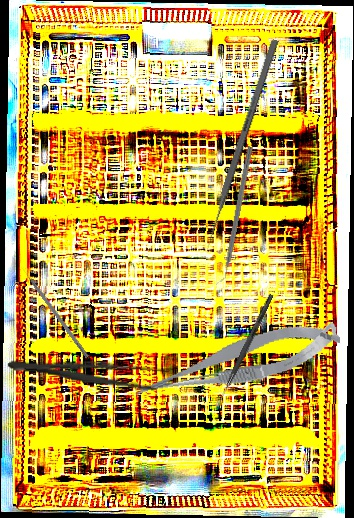Chopper: (213, 144, 253, 287)
Dressing Forceps: (7, 352, 170, 392)
Hook Surgical: (215, 293, 274, 409), (20, 264, 90, 359)
Micro Scissor: (128, 316, 345, 405)
Pusher: (202, 38, 279, 254)
